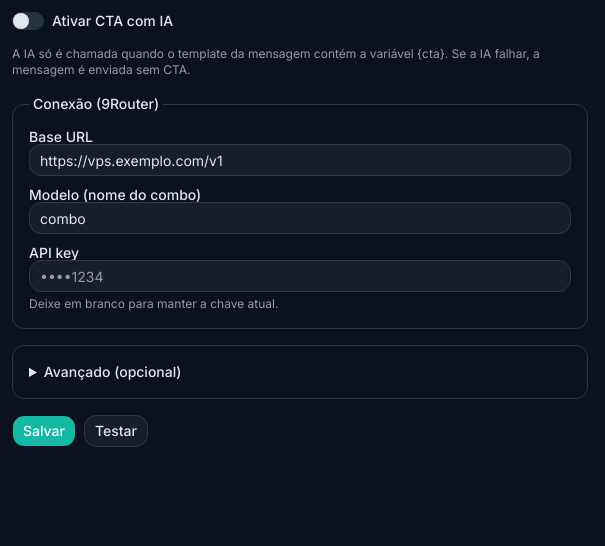
Test case: AiSettingsForm › Testar envia o rascunho do formulário e mostra o CTA e a latência
This screenshot has width=605, height=546.
Replace the text in the field labelled "Modelo (nome do combo)" with "rascunho" at x=300, y=218, box [29,202,571,234]
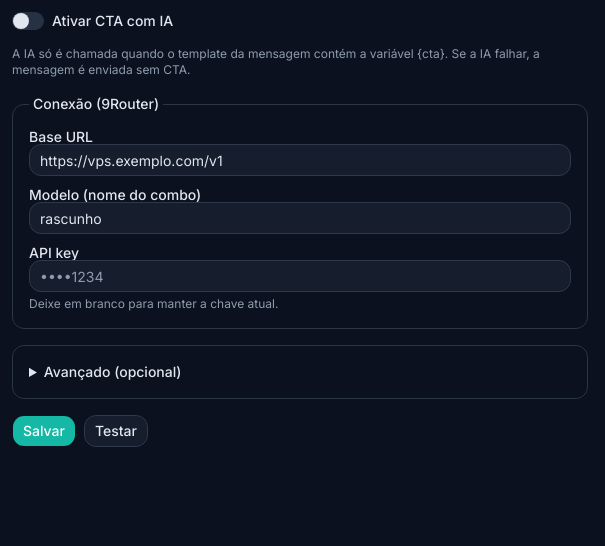
Click the button "Testar" at x=116, y=431, box [84,415,148,447]
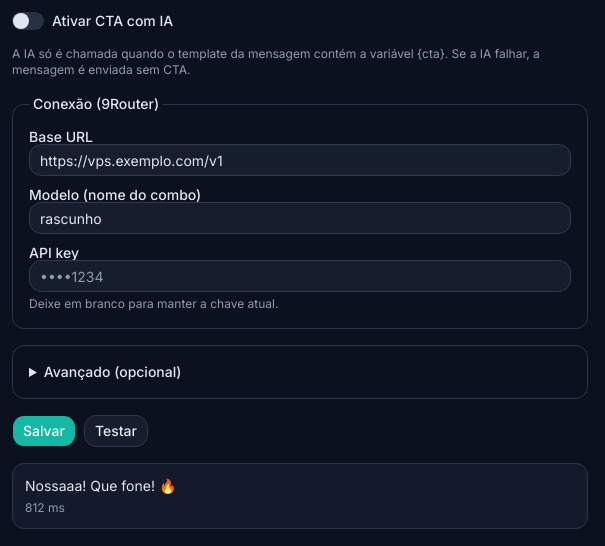
Check: the text "Nossaaa! Que fone! 🔥" is shown, box [25,477,176,494]
Check: the text "812 ms" is shown, box [25,500,65,515]
